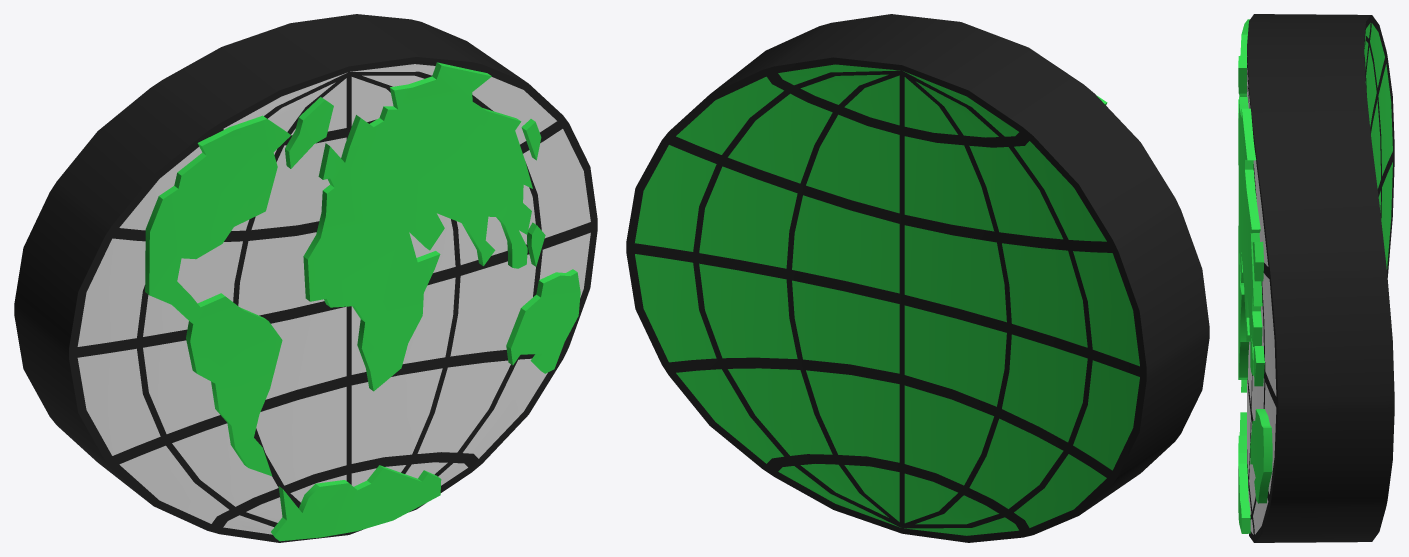
The model's file is Earth_Outer.fbx.
3 views of the same model, side by side, from view 1: azimuth 30°, elevation 25°; view 2: azimuth 150°, elevation 25°; view 3: azimuth 270°, elevation 25° (orthographic).
Visible parts, largest first — view 1: Earth_Outer; view 2: Earth_Outer; view 3: Earth_Outer.
Boxes of the visible parts, box(x1,y1,x2,y2) form: Earth_Outer: box(14, 14, 597, 542); Earth_Outer: box(626, 14, 1209, 542); Earth_Outer: box(1238, 14, 1394, 542).
Bounding box in the file's own units: 34.2 × 28.97 × 8.85.
